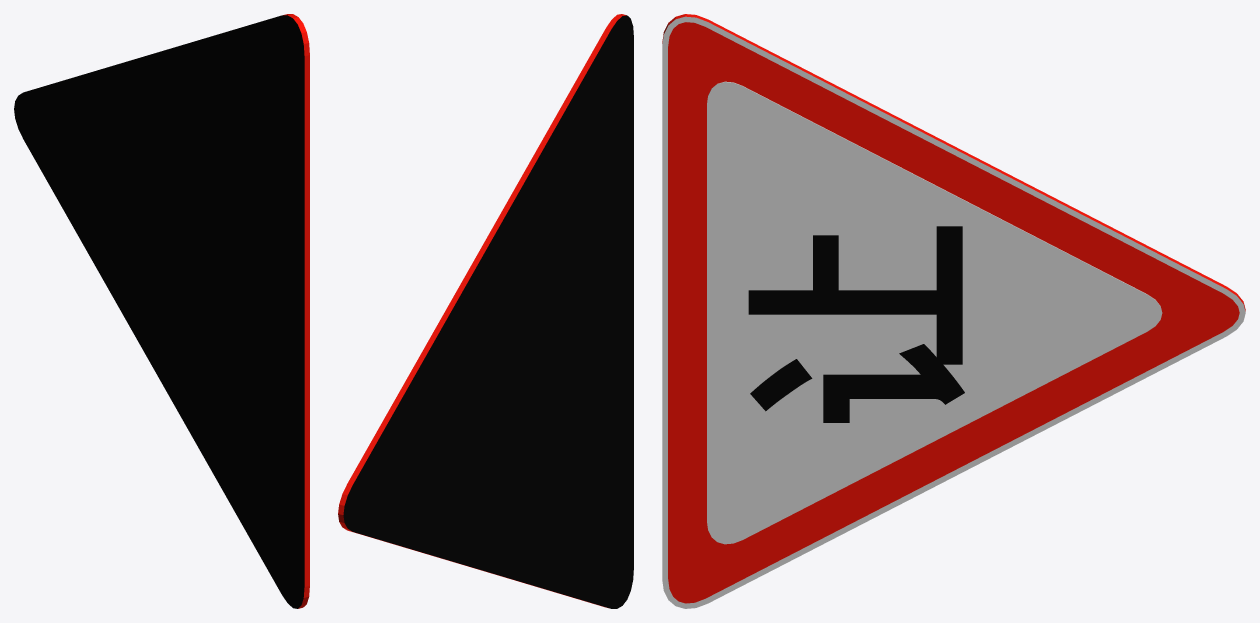
The model's file is 减速让行.gltf.
The picture shows the model from 3 angles, left to right: view 1: azimuth 30°, elevation 25°; view 2: azimuth 150°, elevation 25°; view 3: azimuth 270°, elevation 25°; orthographic projection.
Visible parts, largest first — view 1: 平面.001; view 2: 平面.001; view 3: 平面.003, 平面.001, 文本.
Boxes of the visible parts, bbox=[...] form: 平面.001: bbox=[14, 14, 309, 608]; 平面.001: bbox=[338, 14, 633, 608]; 平面.003: bbox=[707, 81, 1162, 544]; 平面.001: bbox=[662, 14, 1245, 608]; 文本: bbox=[748, 226, 964, 422].
Size of the model in its own units: 0.0109 by 0.9304 by 0.8307.
